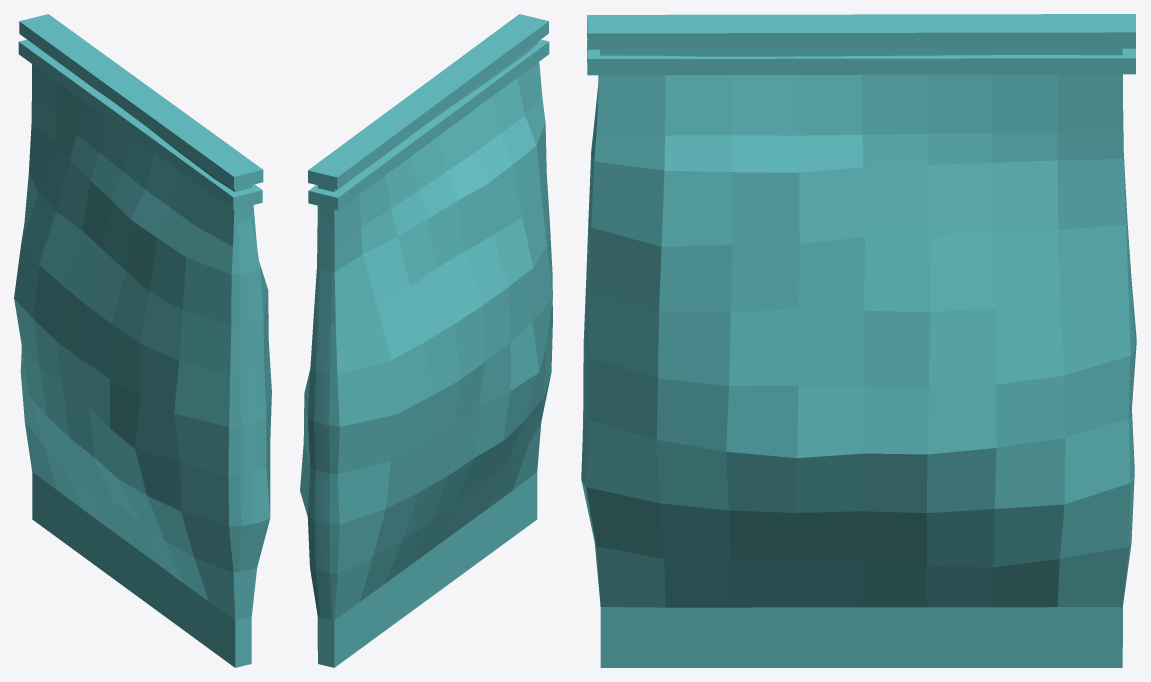
File: stardust.glb
3 renders of one model, left to right at view 1: azimuth 30°, elevation 25°; view 2: azimuth 150°, elevation 25°; view 3: azimuth 270°, elevation 25°, orthographic. The views are drawn at different scales.
Parts seen in each view (by area): view 1: Cube.001; view 2: Cube.001; view 3: Cube.001.
Part boxes in pixels (bbox=[...]): Cube.001: bbox=[14, 14, 271, 667]; Cube.001: bbox=[300, 14, 552, 667]; Cube.001: bbox=[581, 14, 1136, 667].
Size of the model in its own units: 2.37 by 8.36 by 6.59.
2 materials, 2 textured.
